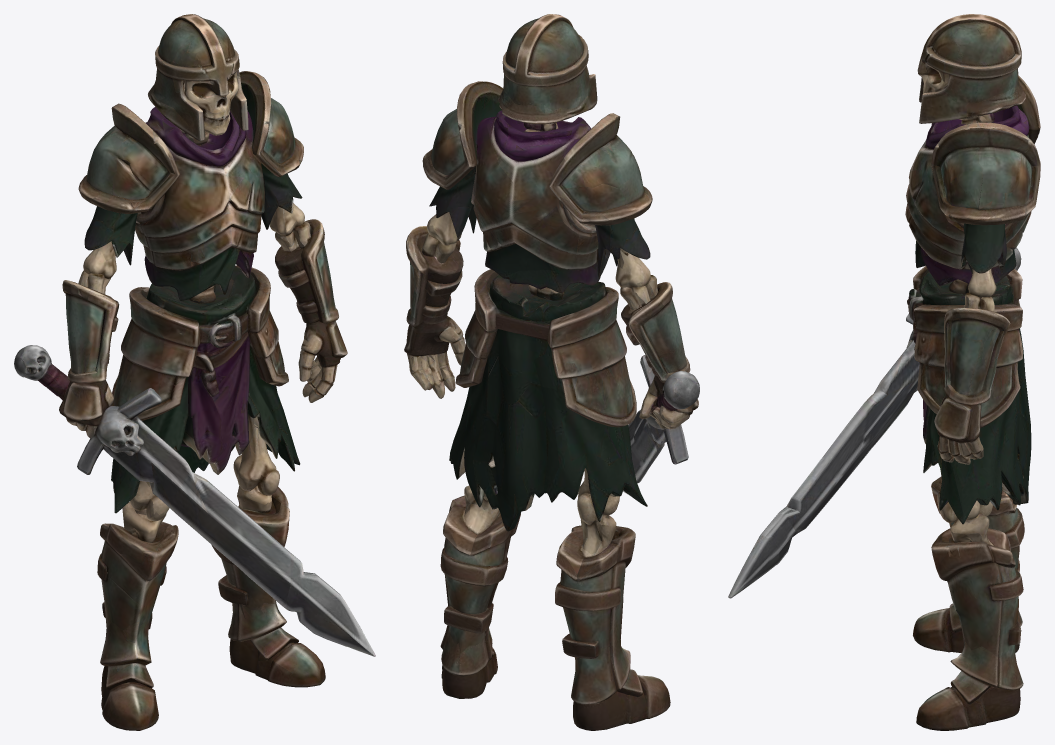
Rendered from grave_warden.glb.
3 renders of one model, left to right at view 1: azimuth 30°, elevation 25°; view 2: azimuth 150°, elevation 25°; view 3: azimuth 270°, elevation 25°, orthographic. The views are drawn at different scales.
Parts seen in each view (by area): view 1: Mesh_0; view 2: Mesh_0; view 3: Mesh_0.
Boxes of the visible parts, left/top/right/bottom form: Mesh_0: left=14, top=14, right=375, bottom=730; Mesh_0: left=404, top=14, right=699, bottom=730; Mesh_0: left=728, top=14, right=1040, bottom=730.
Bounding box in the file's own units: 0.912 × 1.9 × 0.8126.
1 material, 1 textured.
